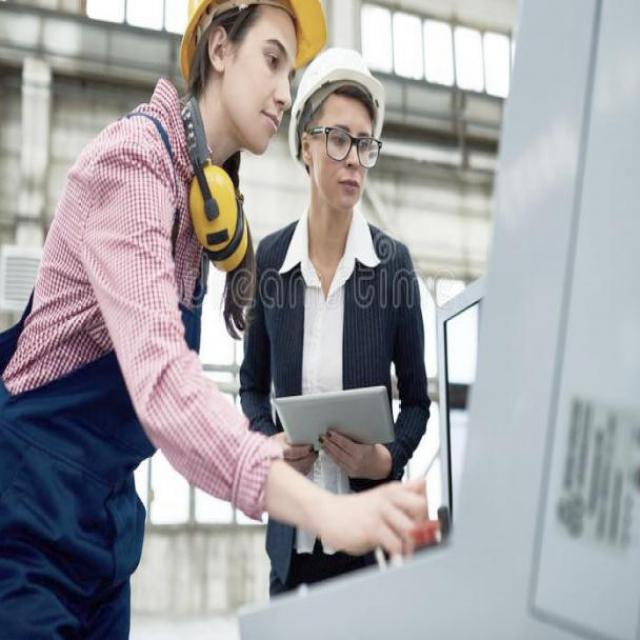helmet: (293, 48, 412, 203), (191, 0, 303, 136)
